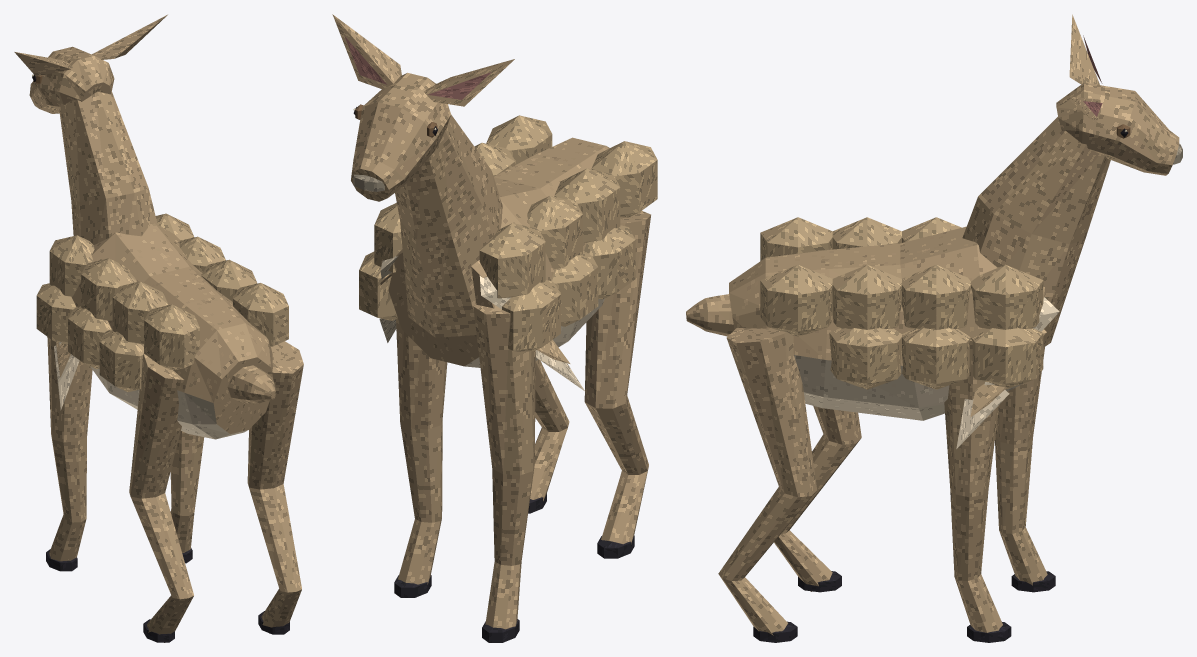
The model's file is mon_llama.glb.
3 renders of one model, left to right at view 1: azimuth 30°, elevation 25°; view 2: azimuth 150°, elevation 25°; view 3: azimuth 270°, elevation 25°, orthographic. The views are drawn at different scales.
Visible parts, largest first — view 1: closed_body; view 2: closed_body; view 3: closed_body.
Boxes of the visible parts, x1=… form: closed_body: x1=14, y1=14, x2=303, y2=642; closed_body: x1=332, y1=14, x2=657, y2=642; closed_body: x1=686, y1=14, x2=1182, y2=642.
Size of the model in its own units: 0.7675 by 2.24 by 1.8.
Materials: 1 (1 with a texture image).
